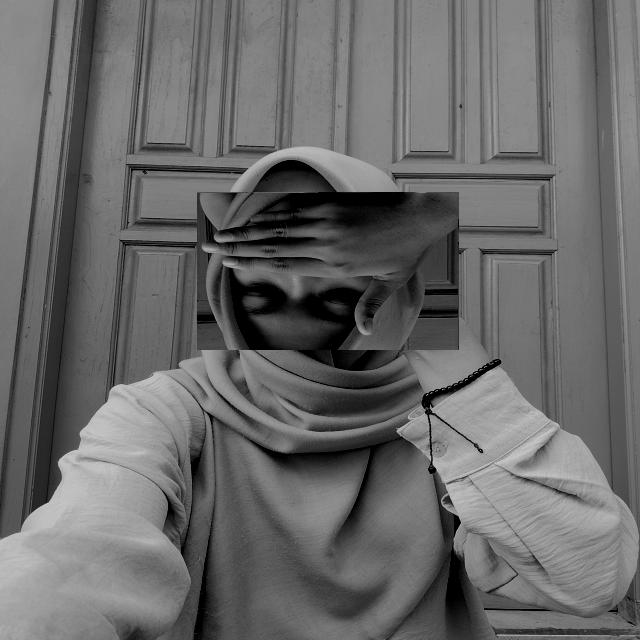buruk: (197, 192, 459, 350)
